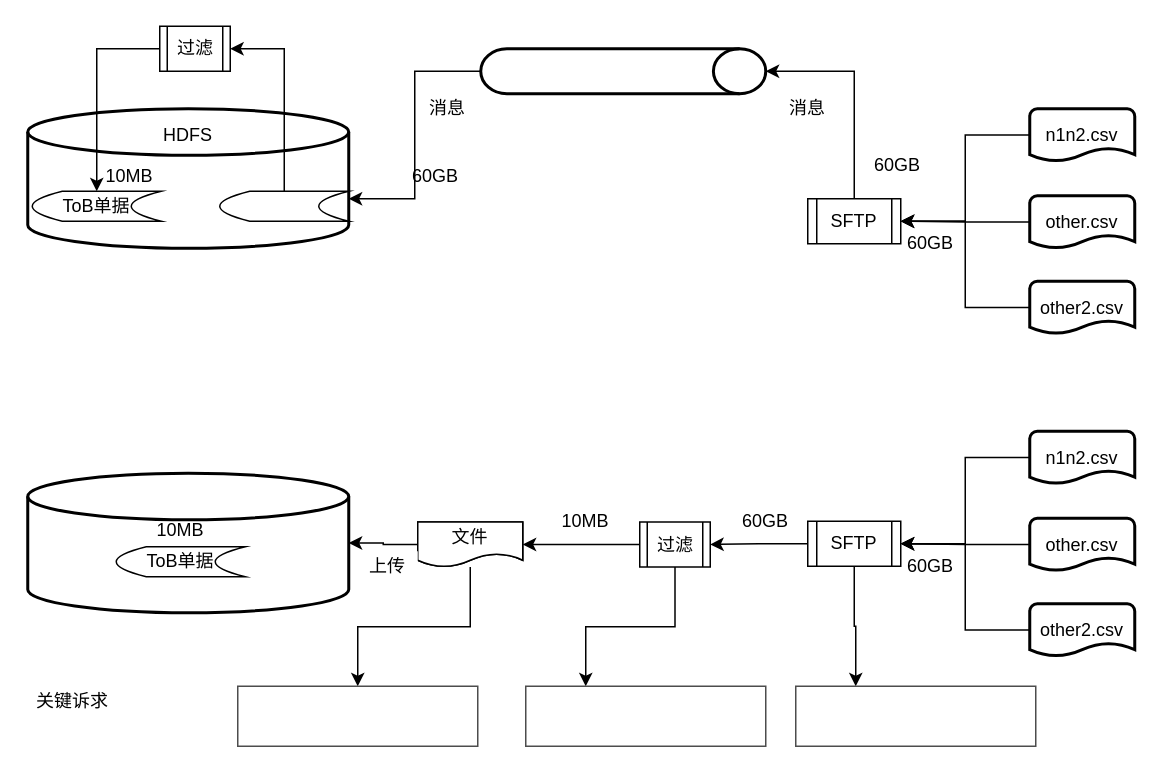
Image size: 1161x774. Some labels were removed from this diagram. The centre of each missing label's shape, as x and y in pixels:
1.以文件形式上传，避免转“消息”后，再写文件。: (x=357, y=715)
1.在第一时间过滤出ToB单据 2.按号段过滤，支持正则表达式。: (x=645, y=715)
1.每次只获取新文件。 2.下载文件后，不得删除源文件: (x=915, y=715)
Kafka: (x=622, y=70)
全量数据: (x=283, y=205)
